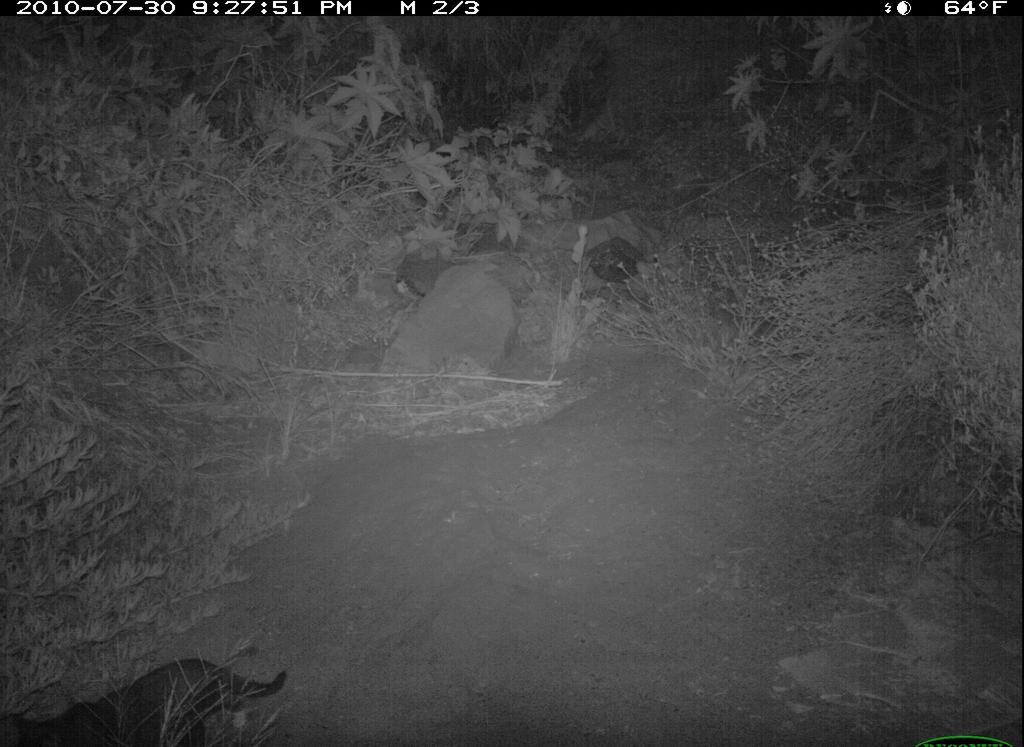cat: (7, 652, 290, 747)
